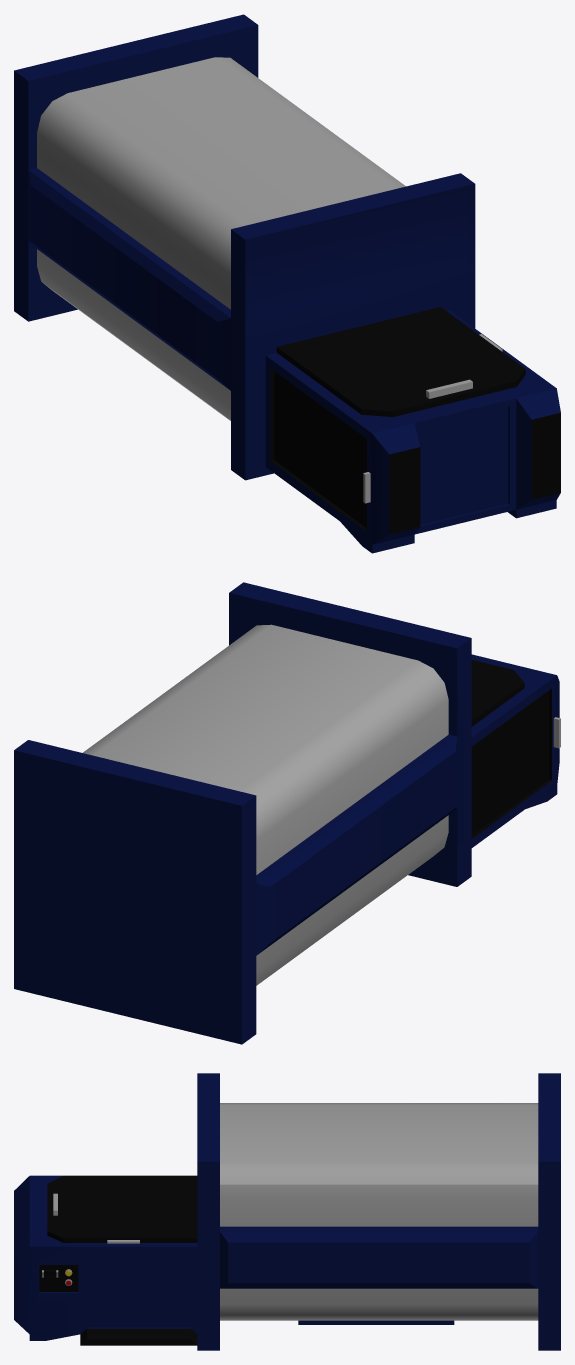
Rendered from MESH_PROP_Compressor_Grande.fbx.
The picture shows the model from 3 angles, top to bottom: view 1: azimuth 30°, elevation 25°; view 2: azimuth 150°, elevation 25°; view 3: azimuth 270°, elevation 25°; orthographic projection. The views are drawn at different scales.
Parts seen in each view (by area): view 1: Compressor_Grande; view 2: Compressor_Grande; view 3: Compressor_Grande.
Boxes of the visible parts, x1,y1,x2,y2 form: Compressor_Grande: (14,14,560,553); Compressor_Grande: (14,582,560,1044); Compressor_Grande: (14,1073,560,1350).
Size of the model in its own units: 357 by 338 by 886.
